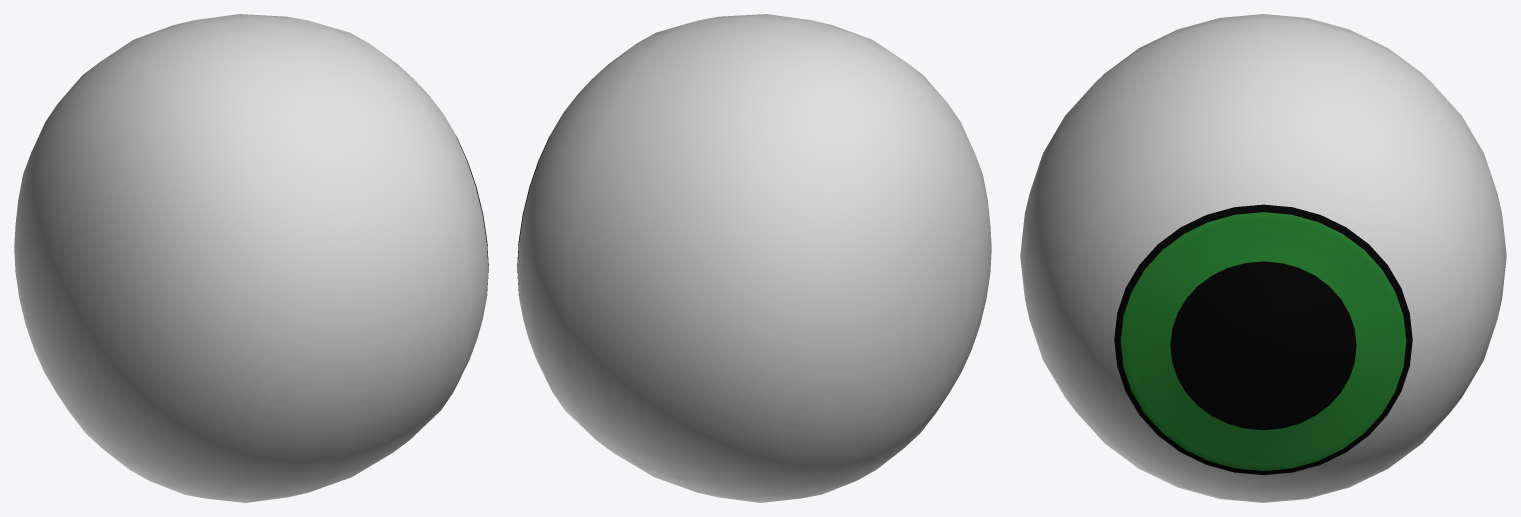
File: eyeball_green.fbx
3 renders of one model, left to right at view 1: azimuth 30°, elevation 25°; view 2: azimuth 150°, elevation 25°; view 3: azimuth 270°, elevation 25°, orthographic.
Visible parts, largest first — view 1: Sphere; view 2: Sphere; view 3: Sphere.
Boxes of the visible parts, <box> form: Sphere: <box>14,14,488,502</box>; Sphere: <box>517,14,991,502</box>; Sphere: <box>1020,14,1506,502</box>.
Size of the model in its own units: 346 by 380 by 380.
